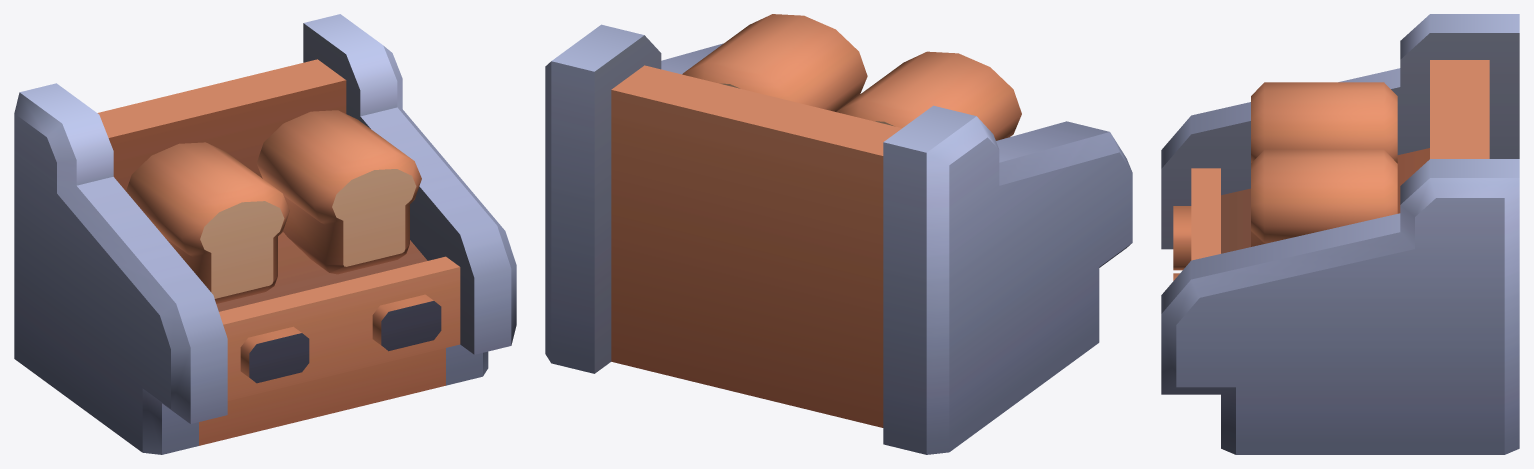
The model's file is display-bread.glb.
The picture shows the model from 3 angles, left to right: view 1: azimuth 30°, elevation 25°; view 2: azimuth 150°, elevation 25°; view 3: azimuth 270°, elevation 25°; orthographic projection. The views are drawn at different scales.
Visible parts, largest first — view 1: display-bread, bread (×2); view 2: display-bread, bread (×2); view 3: display-bread, bread (×2).
Part boxes in pixels (left/top/right/bottom): display-bread: left=14, top=14, right=516, bottom=454; bread (×2): left=126, top=110, right=421, bottom=303; display-bread: left=545, top=24, right=1132, bottom=454; bread (×2): left=682, top=14, right=1021, bottom=140; display-bread: left=1161, top=14, right=1519, bottom=454; bread (×2): left=1251, top=82, right=1397, bottom=246.
Size of the model in its own units: 0.7 by 0.5 by 0.6.
Materials: 1 (1 with a texture image).
